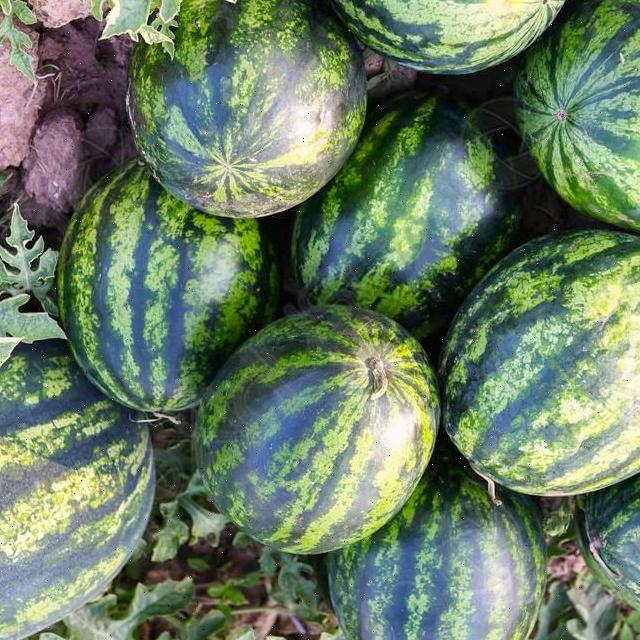watermelon: (0, 401, 167, 640)
